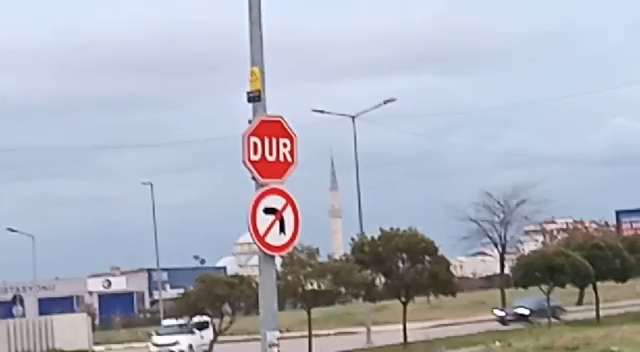no_left: (245, 186, 303, 258)
stop: (240, 114, 300, 186)
